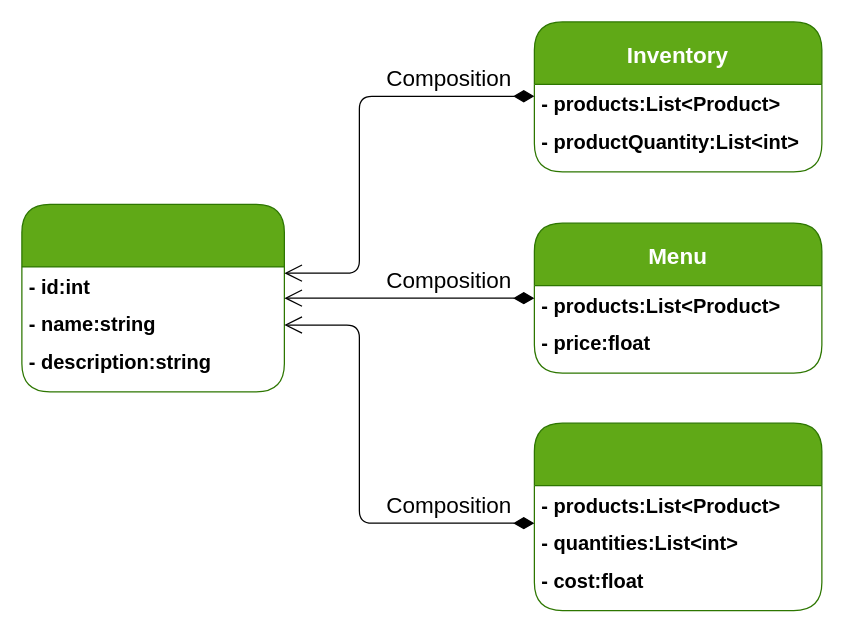
Some shapes in this 844 by 636 pixel diagram are drawn without their labels. Each missing label, with the box of its shape:
Order: (533, 422, 822, 611)
Product: (21, 203, 284, 392)
